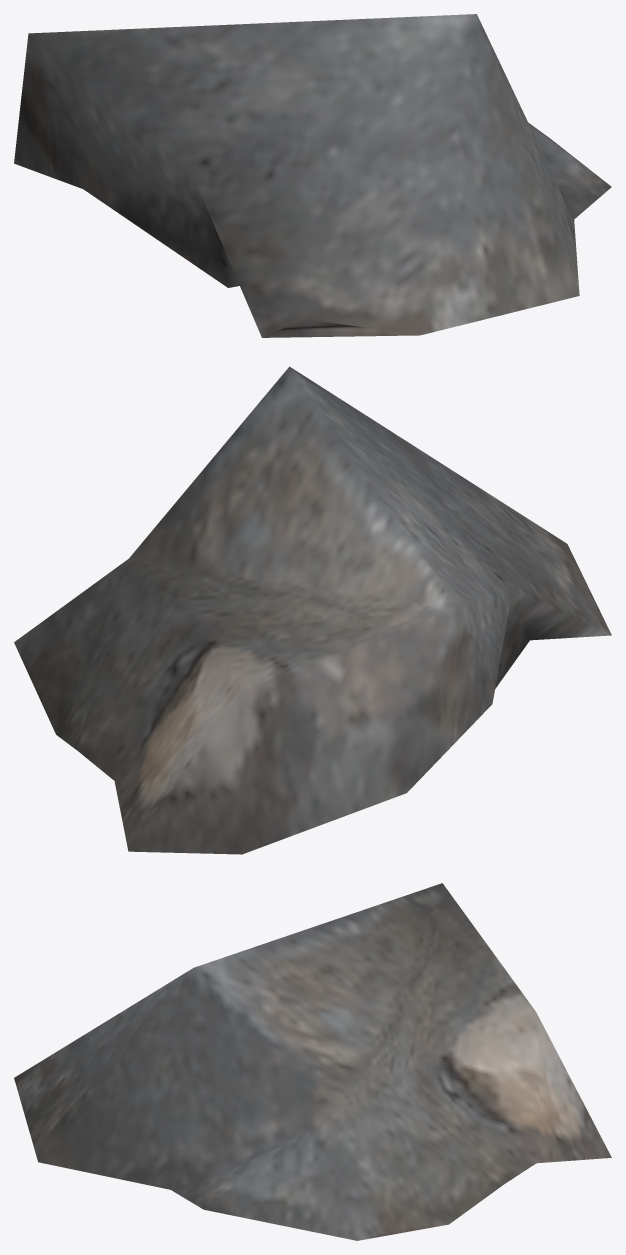
The model's file is forest_rock_04.glb.
3 renders of one model, top to bottom at view 1: azimuth 30°, elevation 25°; view 2: azimuth 150°, elevation 25°; view 3: azimuth 270°, elevation 25°, orthographic. The views are drawn at different scales.
Visible parts, largest first — view 1: Rocks.003_Rocks_0; view 2: Rocks.003_Rocks_0; view 3: Rocks.003_Rocks_0.
Boxes of the visible parts, x1,y1,x2,y2 form: Rocks.003_Rocks_0: [14, 14, 611, 337]; Rocks.003_Rocks_0: [14, 366, 611, 854]; Rocks.003_Rocks_0: [14, 883, 611, 1240].
Size of the model in its own units: 0.9379 by 0.5 by 1.19.
1 material, 1 textured.
